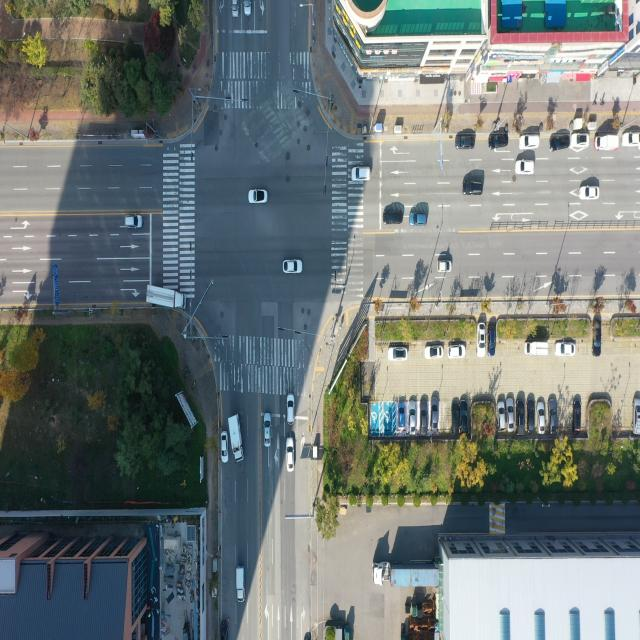car: (519, 132, 540, 152), (572, 396, 582, 436), (488, 132, 509, 150), (550, 134, 570, 152), (477, 322, 487, 358), (578, 185, 600, 201), (462, 180, 484, 196), (515, 159, 535, 176), (454, 133, 474, 150), (459, 400, 468, 437), (548, 398, 557, 434), (419, 400, 428, 436), (430, 396, 439, 432), (451, 402, 460, 437), (537, 401, 546, 436), (515, 400, 524, 435), (248, 188, 267, 204), (570, 133, 589, 149), (351, 167, 371, 182), (555, 343, 575, 358), (388, 347, 408, 362), (408, 399, 416, 436), (498, 402, 507, 434), (487, 326, 496, 358), (506, 398, 514, 434), (527, 397, 535, 433), (383, 211, 403, 225), (264, 413, 272, 448), (594, 322, 602, 356), (518, 397, 526, 431), (126, 214, 144, 229), (284, 261, 302, 276), (622, 133, 640, 148), (286, 439, 294, 472), (426, 346, 443, 361), (220, 432, 228, 463), (409, 213, 427, 226), (449, 346, 466, 359), (287, 395, 294, 426), (634, 397, 640, 433), (398, 402, 406, 429), (218, 620, 228, 640), (438, 262, 453, 274), (242, 0, 250, 18), (233, 0, 240, 18)
large_truck: (374, 561, 443, 591)
medium_truck: (147, 284, 187, 311), (525, 342, 550, 358)
small_truck: (228, 415, 242, 461), (594, 135, 620, 152), (237, 567, 246, 604)
